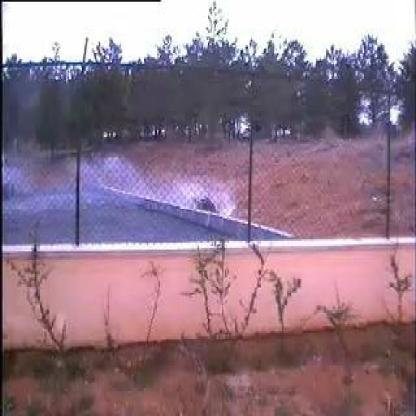-: (48, 158, 235, 239)
